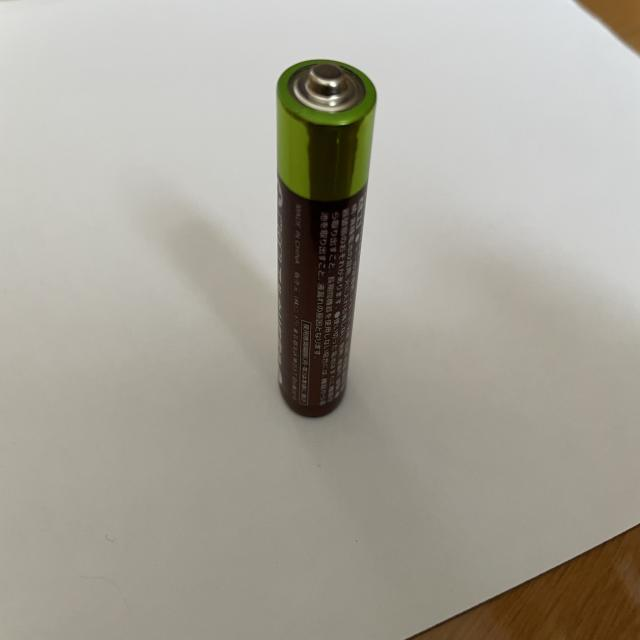hazardous waste: (273, 57, 377, 418)
